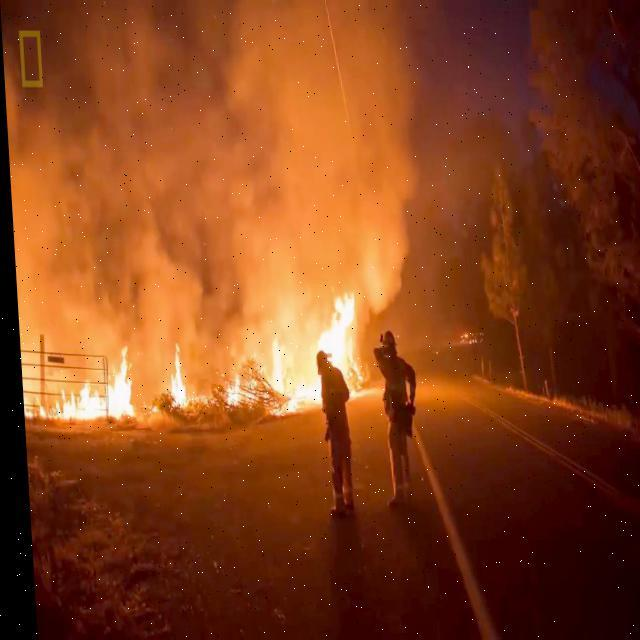Fire: (19, 350, 136, 422), (252, 308, 316, 418), (316, 284, 364, 398), (160, 341, 188, 408), (218, 369, 240, 407)
